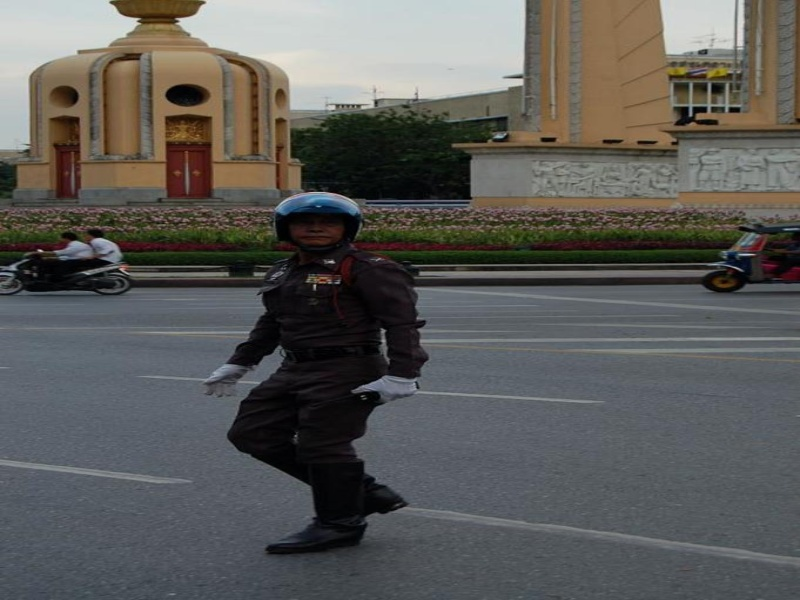Baret: (275, 191, 362, 226)
